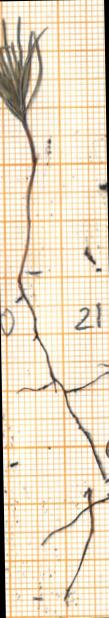flower: (0, 16, 52, 124)
root: (10, 274, 109, 486)
stem: (11, 127, 42, 272)
